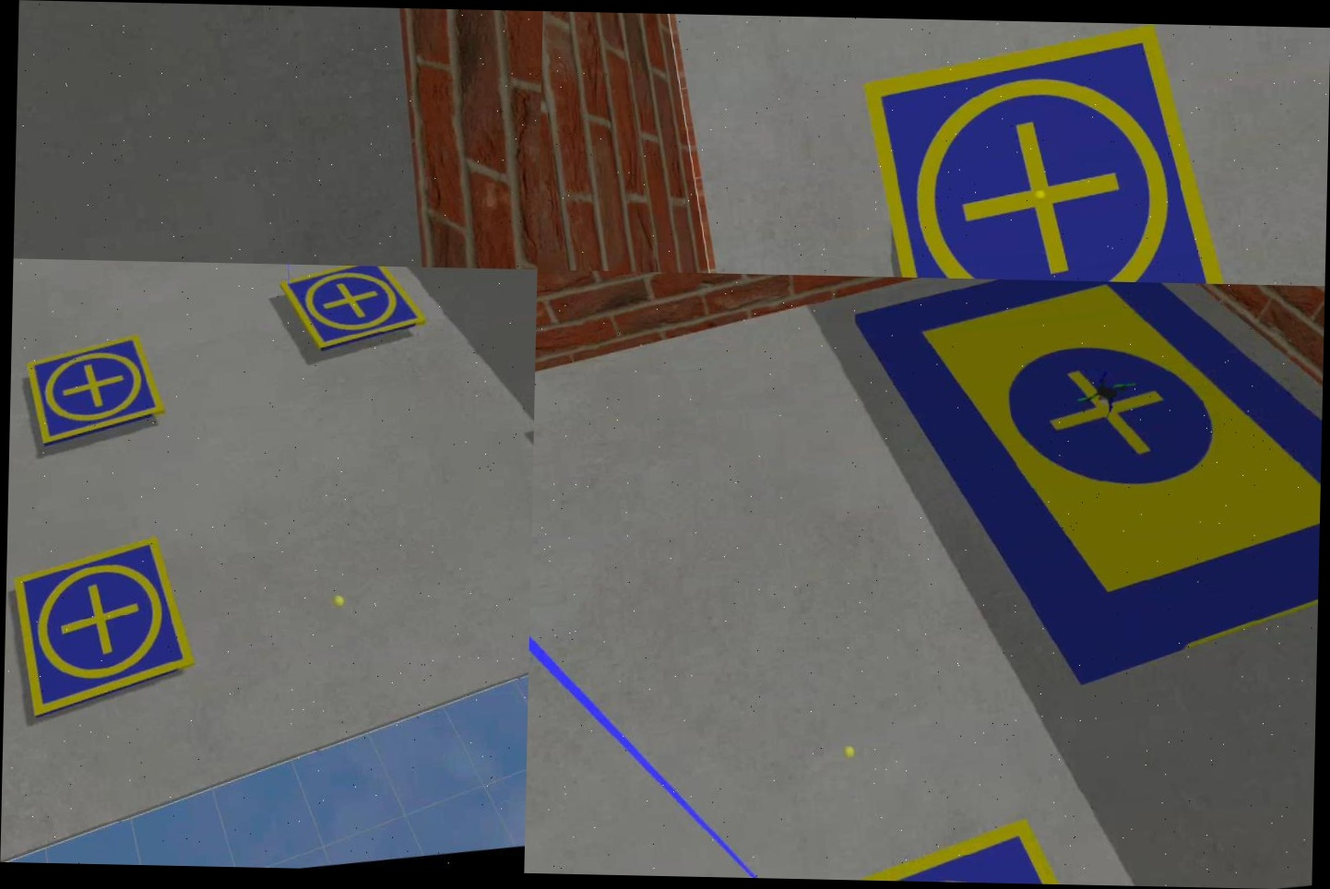large_base: (838, 276, 1324, 714)
small_base: (849, 18, 1249, 284), (6, 532, 198, 725), (772, 809, 1075, 883), (22, 331, 171, 451), (283, 265, 430, 354)
